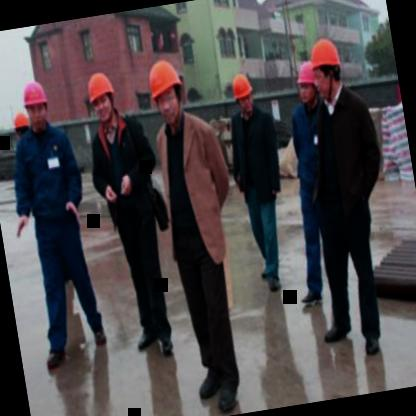helmet: (141, 50, 194, 134), (80, 65, 121, 134), (306, 34, 348, 101), (18, 74, 56, 136), (226, 66, 260, 119), (291, 58, 322, 109), (10, 105, 36, 148)
